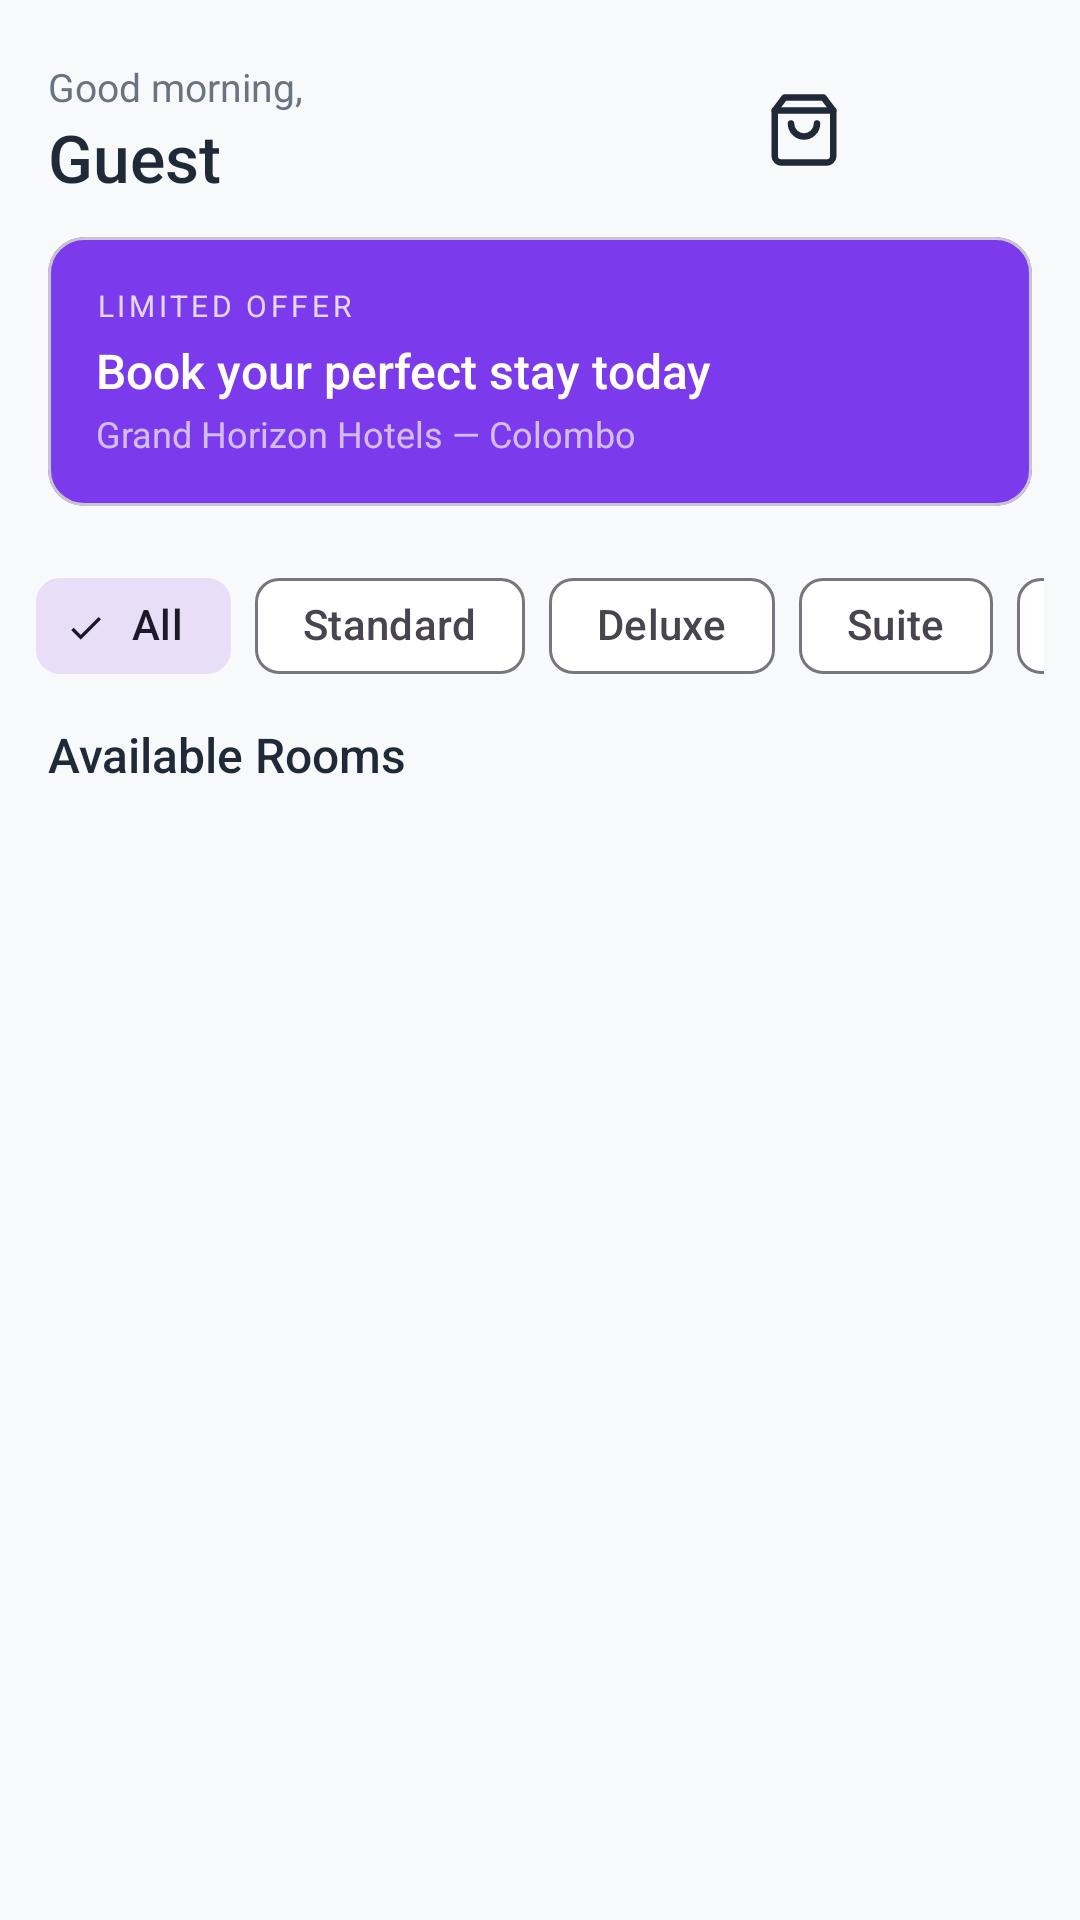

Icons on this 1080×1920 Android screen, each with its box as (x1=x1, y1=y1, x2=x2, y2=y2):
Cart: (x1=771, y1=94, x2=837, y2=166)
